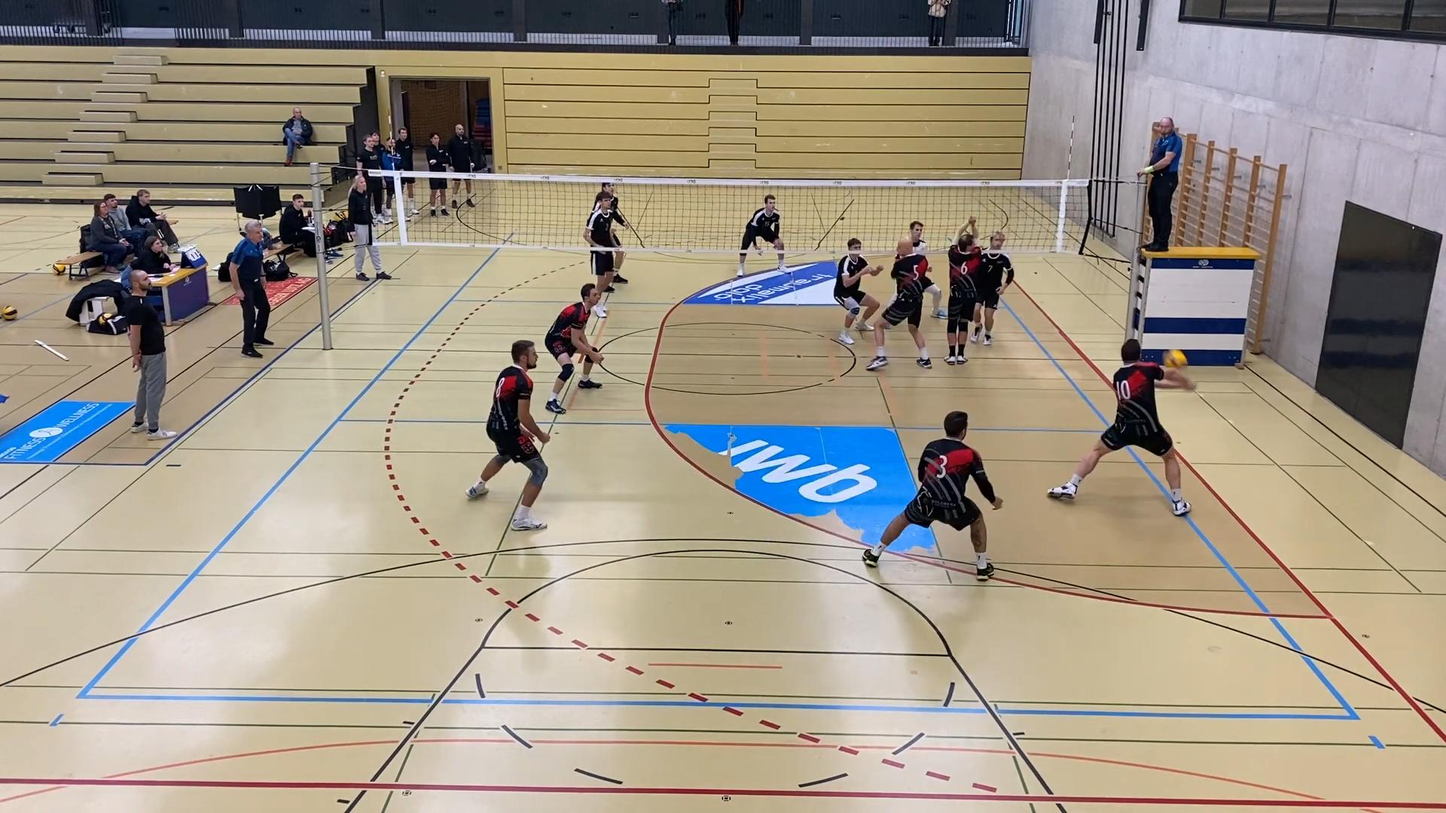difesa: (1047, 337, 1197, 520)
